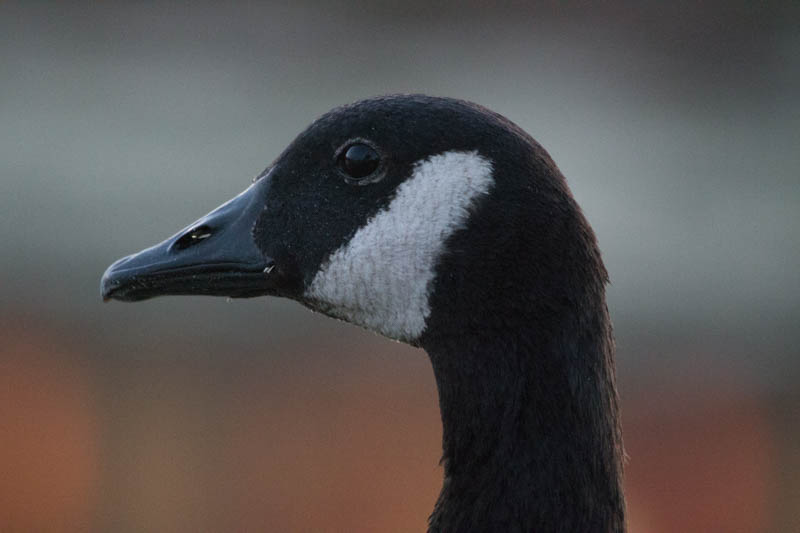goose-head: (98, 94, 609, 348)
